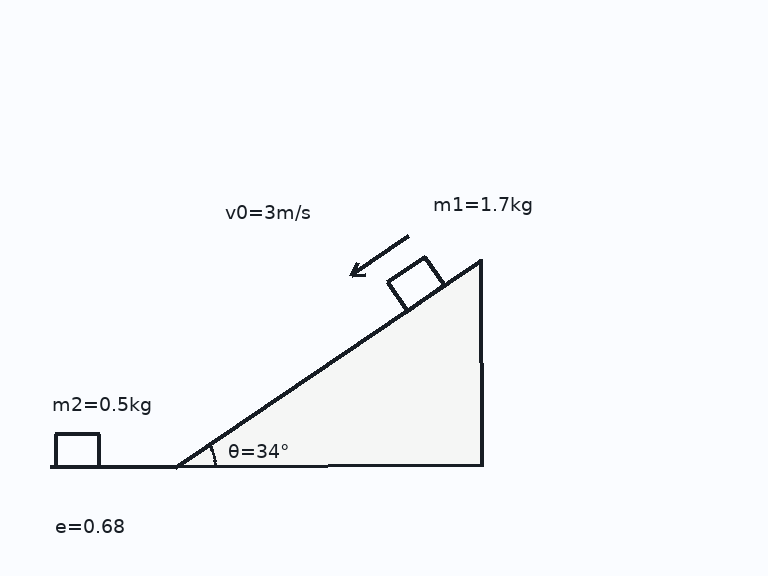block: (385, 254, 446, 312), (53, 432, 101, 468)
ramp: (173, 258, 482, 468)
